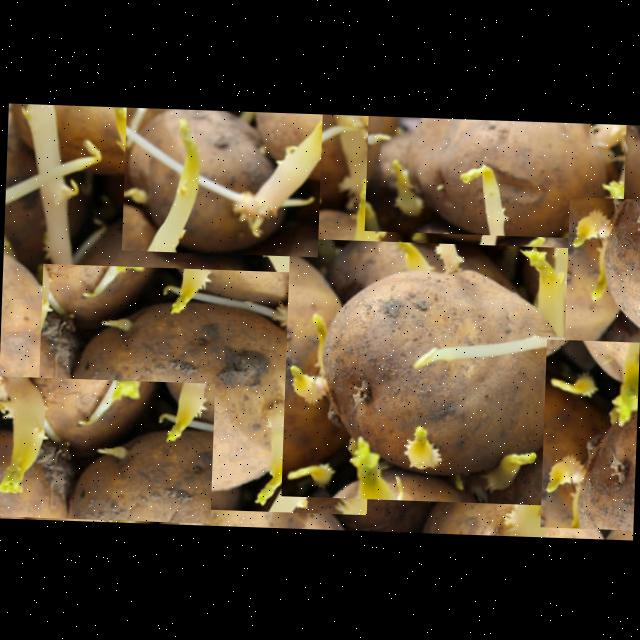Sprouted potato: (280, 237, 640, 507), (34, 262, 374, 514), (363, 114, 625, 238), (0, 375, 214, 522), (120, 105, 322, 256), (397, 439, 632, 537), (538, 338, 640, 529), (560, 195, 640, 426)
